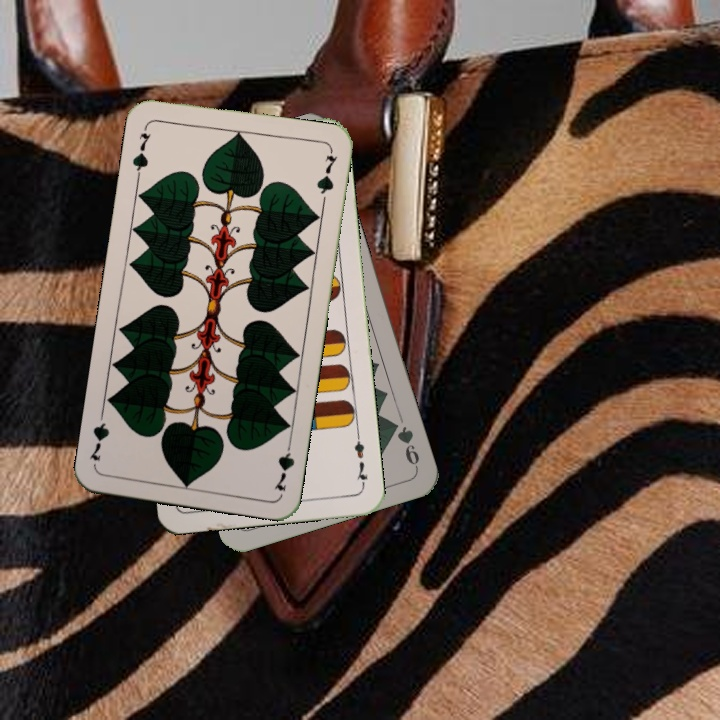E7: (350, 430, 371, 489)
G7: (271, 436, 297, 494), (128, 121, 153, 180)
G9: (386, 417, 422, 471)
